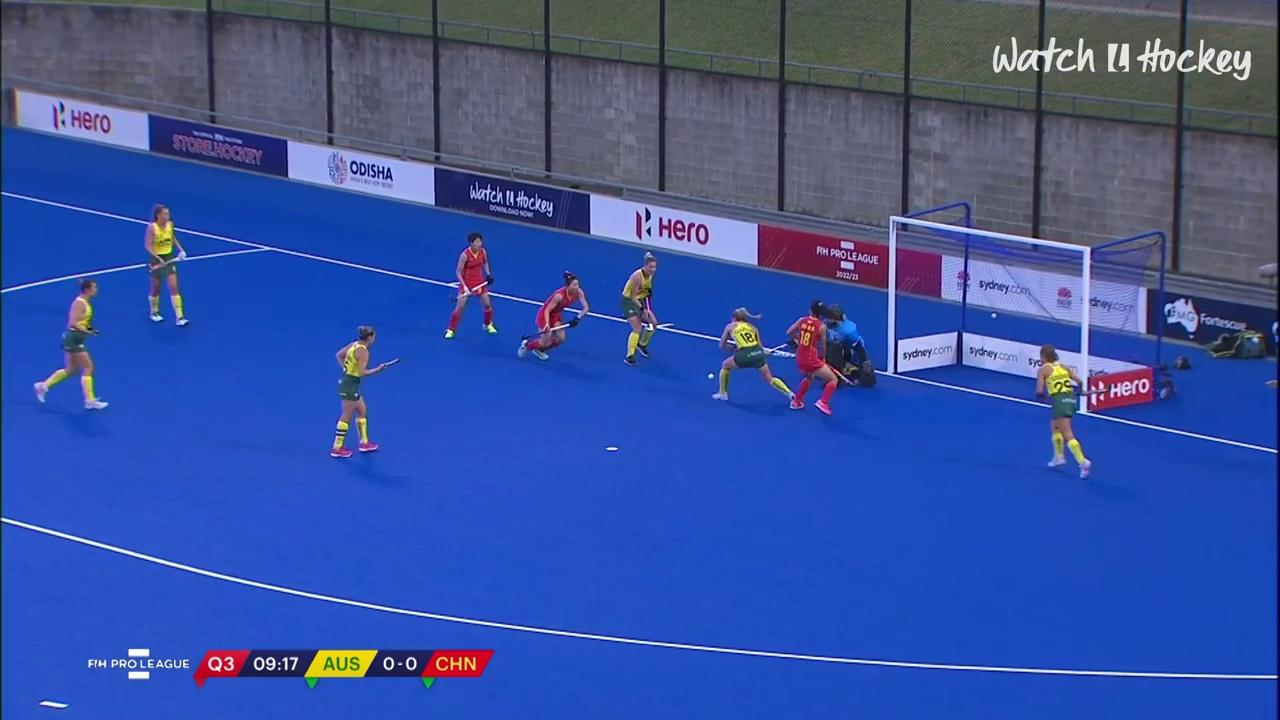ball: (704, 368, 719, 384)
